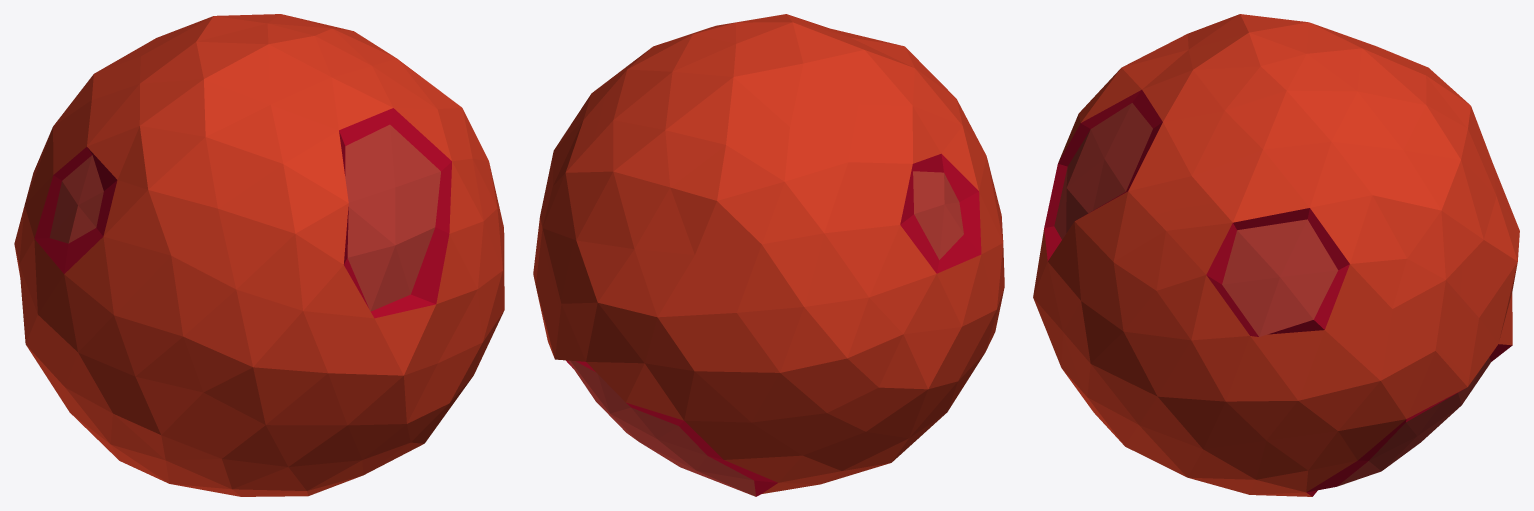
The model's file is mars.fbx.
The picture shows the model from 3 angles, left to right: view 1: azimuth 30°, elevation 25°; view 2: azimuth 150°, elevation 25°; view 3: azimuth 270°, elevation 25°; orthographic projection. The views are drawn at different scales.
Parts seen in each view (by area): view 1: Mars; view 2: Mars; view 3: Mars.
Boxes of the visible parts, bbox=[...] form: Mars: bbox=[14, 14, 504, 496]; Mars: bbox=[533, 14, 1004, 496]; Mars: bbox=[1033, 14, 1519, 496].
Size of the model in its own units: 109 by 109 by 110.
